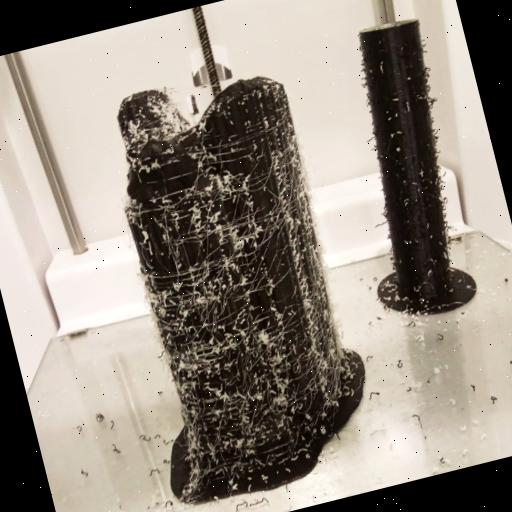stringing: (93, 54, 391, 490)
